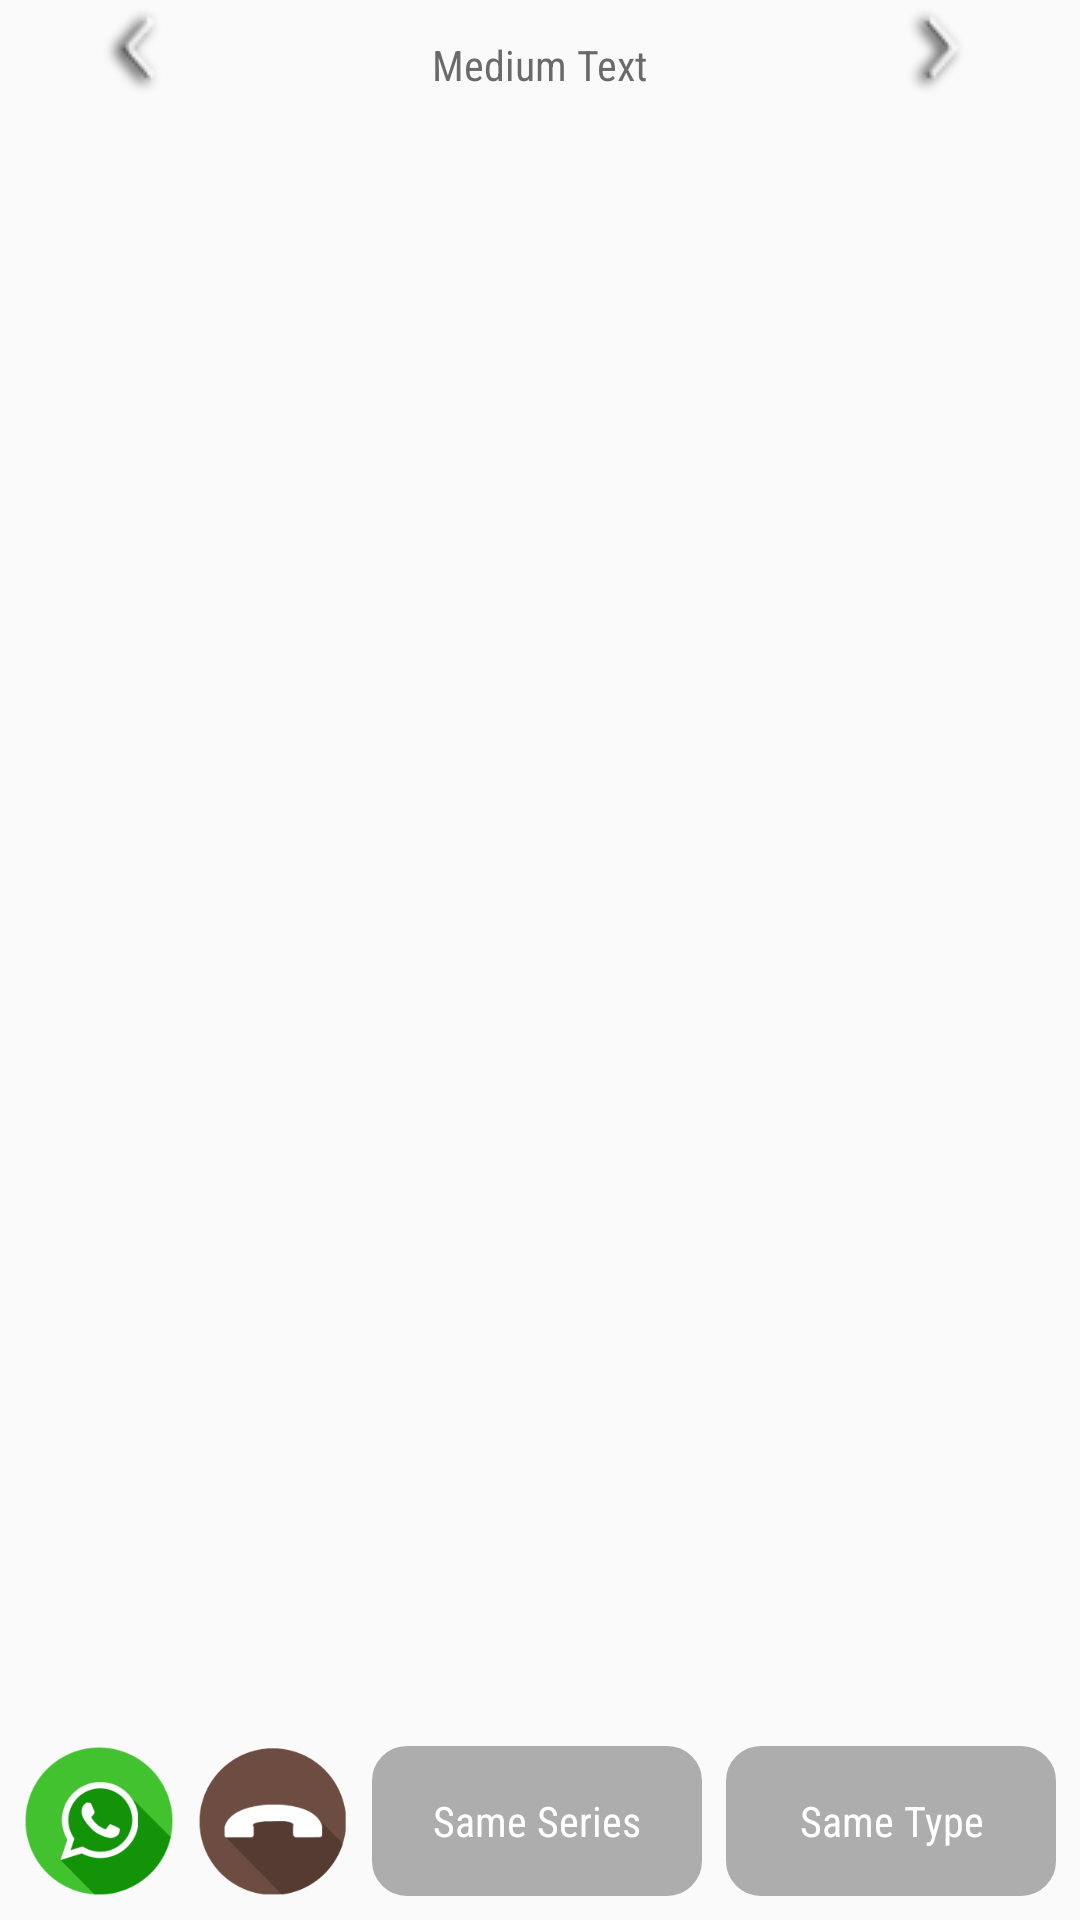

Named icons in this screenshot (1080px x 1920px) and their centers, [x,y]:
call: [272,1821]
next item: [936,51]
previous item: [131,51]
